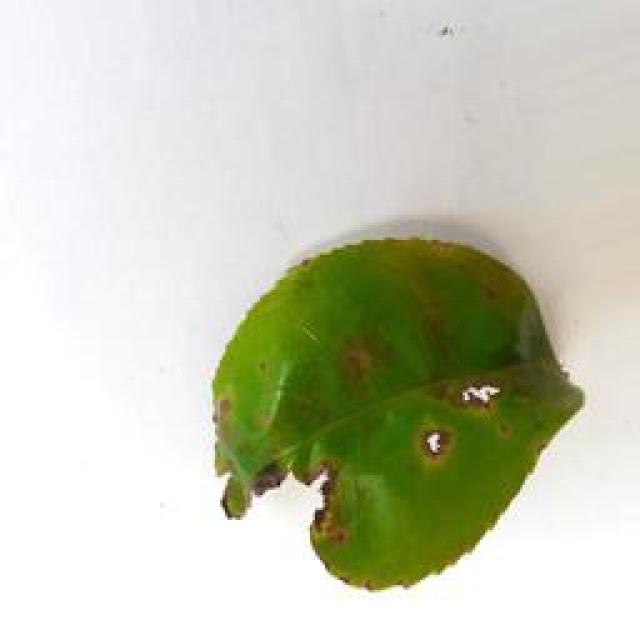Helopeltis: (214, 232, 583, 592)
